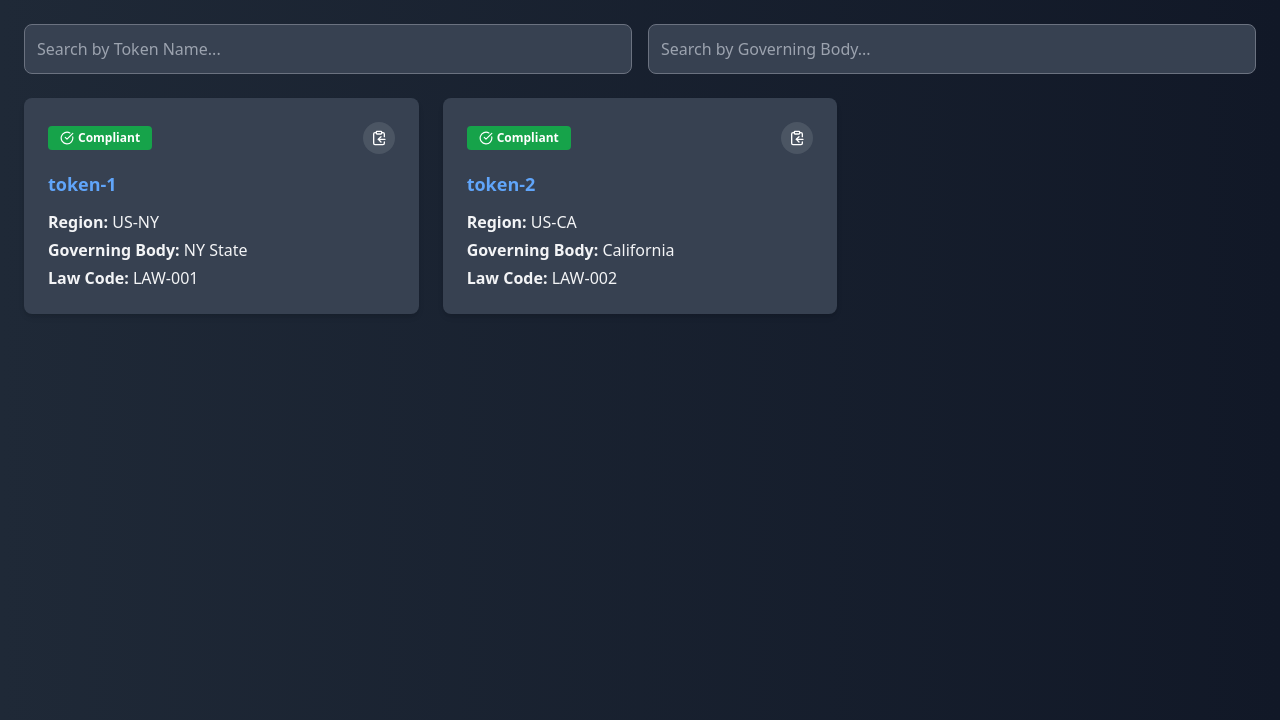
Scenario: Compliance Render and Searches › filters by governing body
Expected: the link "token-1" is shown, [48,172,117,196]
Expected: the link "token-2" is shown, [467,172,535,196]
Note: Simulate typing in the search field for Governing Body
Type "California" into the field with placeholder "Search by Governing Body...".
click(952, 49); type("California")  # box [648,24,1256,74]
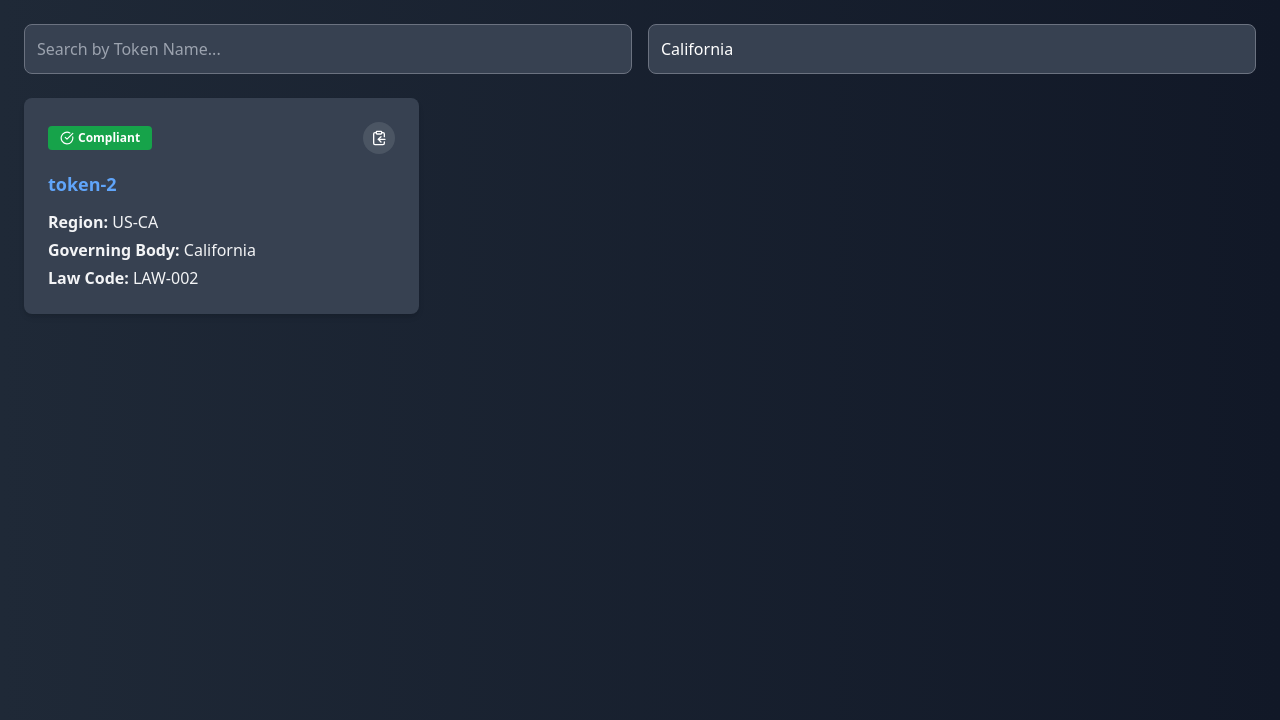
Expected: the link "token-2" is shown, [48,172,117,196]
Expected: the link "token-1" is gone
